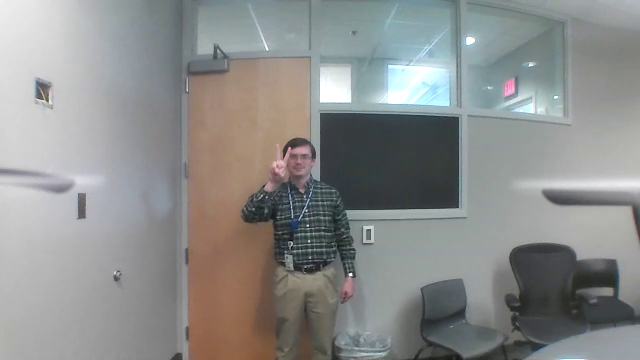peace: (269, 140, 291, 179)
